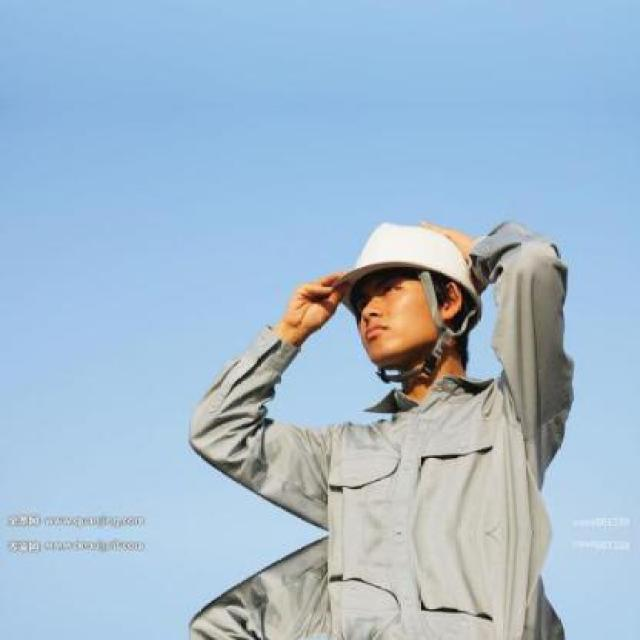helmet: (330, 208, 482, 380)
